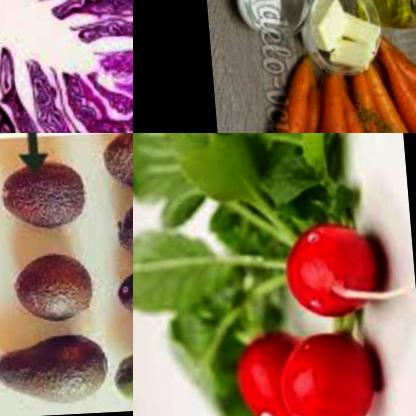avocado: (0, 325, 101, 416), (0, 146, 85, 229), (5, 245, 94, 323), (103, 190, 133, 269), (103, 336, 133, 414), (95, 133, 133, 175)
cabbage: (0, 0, 133, 133)
carrot: (264, 56, 416, 133)
rediska: (279, 220, 387, 329), (268, 329, 378, 416), (219, 329, 300, 416)
